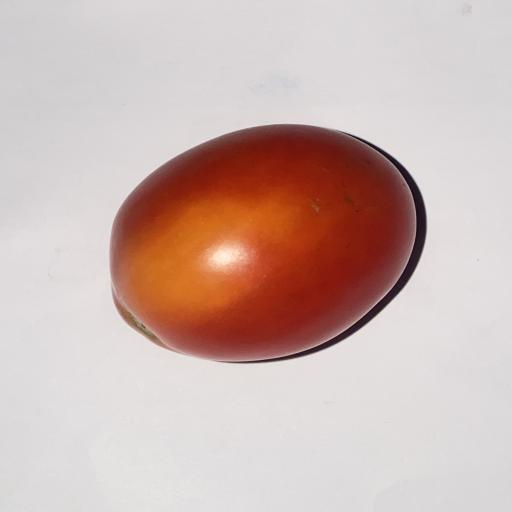ripe: (110, 125, 416, 361)
